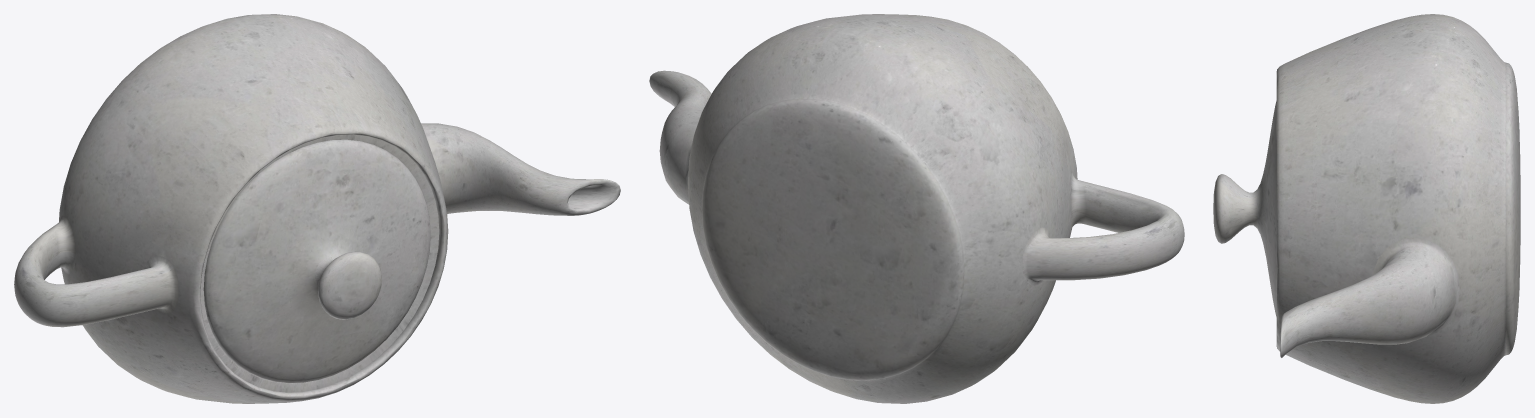
The model's file is marble_teapot.gltf.
3 views of the same model, side by side, from view 1: azimuth 30°, elevation 25°; view 2: azimuth 150°, elevation 25°; view 3: azimuth 270°, elevation 25° (orthographic). The views are drawn at different scales.
Parts seen in each view (by area): view 1: Utah Teapot; view 2: Utah Teapot; view 3: Utah Teapot.
Part boxes in pixels (x1,y1,x2,y2): Utah Teapot: [14, 14, 620, 403]; Utah Teapot: [649, 14, 1184, 403]; Utah Teapot: [1213, 14, 1520, 403].
Size of the model in its own units: 6.45 by 4 by 3.15.
1 material, 1 textured.
